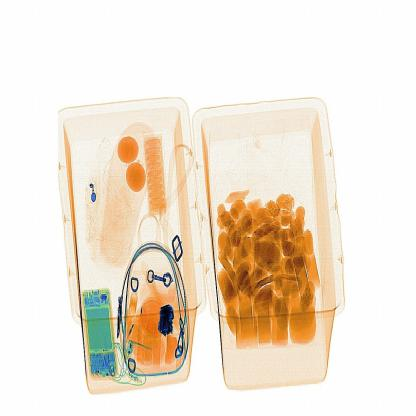scissors: (157, 300, 179, 336)
